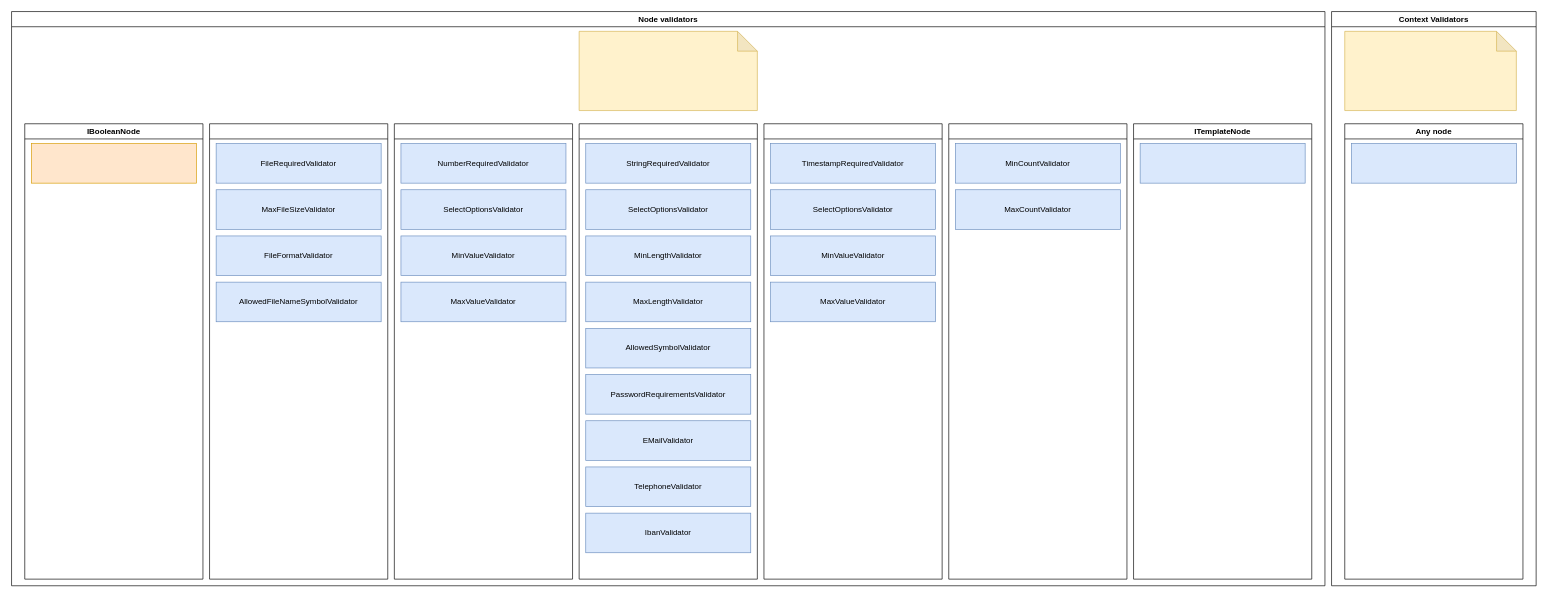
The diagram is 1548 pixels wide and 597 high, and some of its shapes have lost their labels. The box of each missing label's shape, as (x1, y1, x2, y2) in pixels:
ExpressionValidator: (1351, 143, 1516, 183)
ICollectionNode: (948, 123, 1127, 579)
IFileNode: (209, 123, 388, 579)
INumberNode: (394, 123, 573, 579)
ITextNode: (578, 123, 757, 579)
ITimestampNode: (763, 123, 942, 579)
RequireTrueValidator: (31, 143, 196, 183)
TemplateRequiredValidator: (1139, 143, 1305, 183)
They validate a single node each and don't look for the context they are in: (578, 31, 757, 111)
They validate the node in its form context: (1344, 31, 1516, 111)
